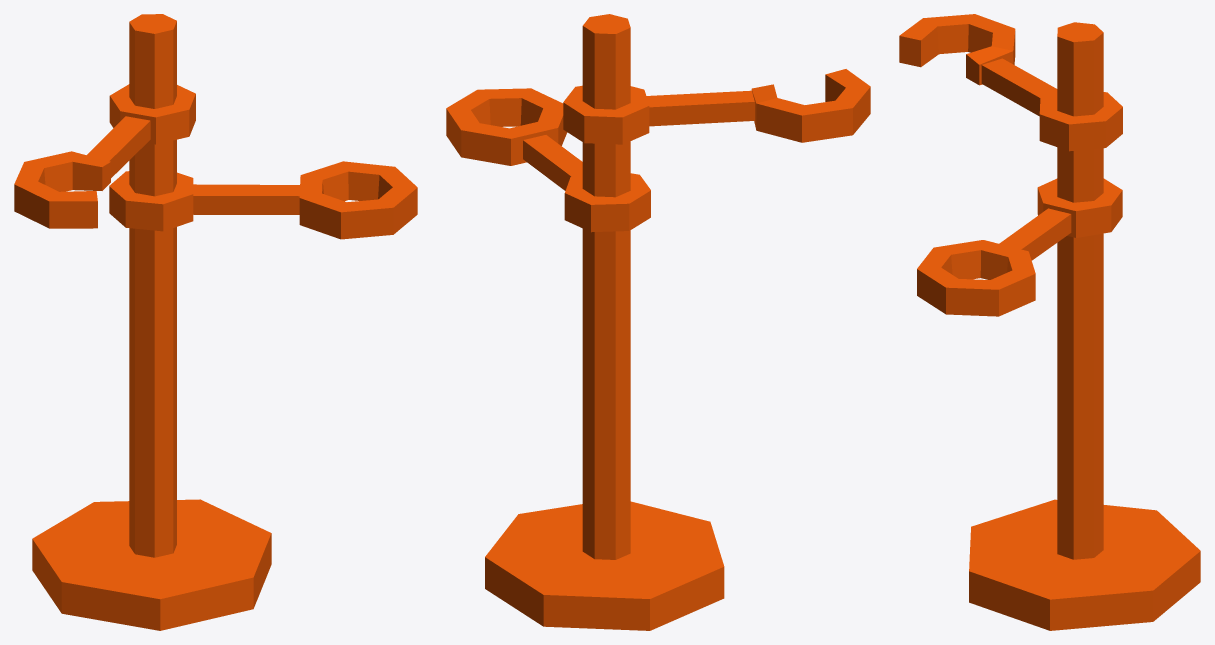
The model's file is Stander_2.fbx.
3 renders of one model, left to right at view 1: azimuth 30°, elevation 25°; view 2: azimuth 150°, elevation 25°; view 3: azimuth 270°, elevation 25°, orthographic.
Parts seen in each view (by area): view 1: Stander_Adjustable.003, Stander_BigFlask_Pole.003, Stander_BigFlask_Arm.005, Stander_BigFlask_Arm.006; view 2: Stander_BigFlask_Pole.003, Stander_Adjustable.003, Stander_BigFlask_Arm.005, Stander_BigFlask_Arm.006; view 3: Stander_Adjustable.003, Stander_BigFlask_Pole.003, Stander_BigFlask_Arm.005, Stander_BigFlask_Arm.006.
Boxes of the visible parts, x1,y1,x2,y2 form: Stander_Adjustable.003: (32, 499, 271, 630); Stander_BigFlask_Pole.003: (129, 14, 176, 557); Stander_BigFlask_Arm.005: (109, 161, 417, 239); Stander_BigFlask_Arm.006: (14, 84, 195, 228); Stander_BigFlask_Pole.003: (582, 14, 630, 559); Stander_Adjustable.003: (485, 501, 724, 630); Stander_BigFlask_Arm.005: (446, 88, 650, 232); Stander_BigFlask_Arm.006: (563, 69, 870, 144); Stander_Adjustable.003: (969, 499, 1200, 630); Stander_BigFlask_Pole.003: (1057, 22, 1103, 559); Stander_BigFlask_Arm.005: (917, 178, 1122, 316); Stander_BigFlask_Arm.006: (899, 14, 1122, 151).
Size of the model in its own units: 73.89 by 99.79 by 49.69.
